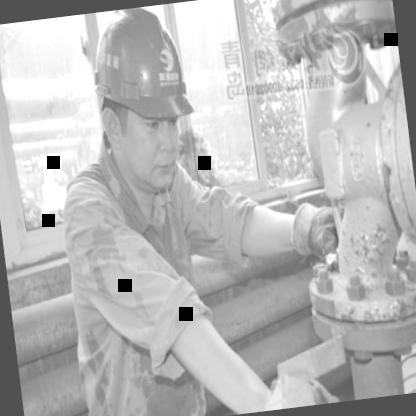helmet: (72, 3, 212, 206)
